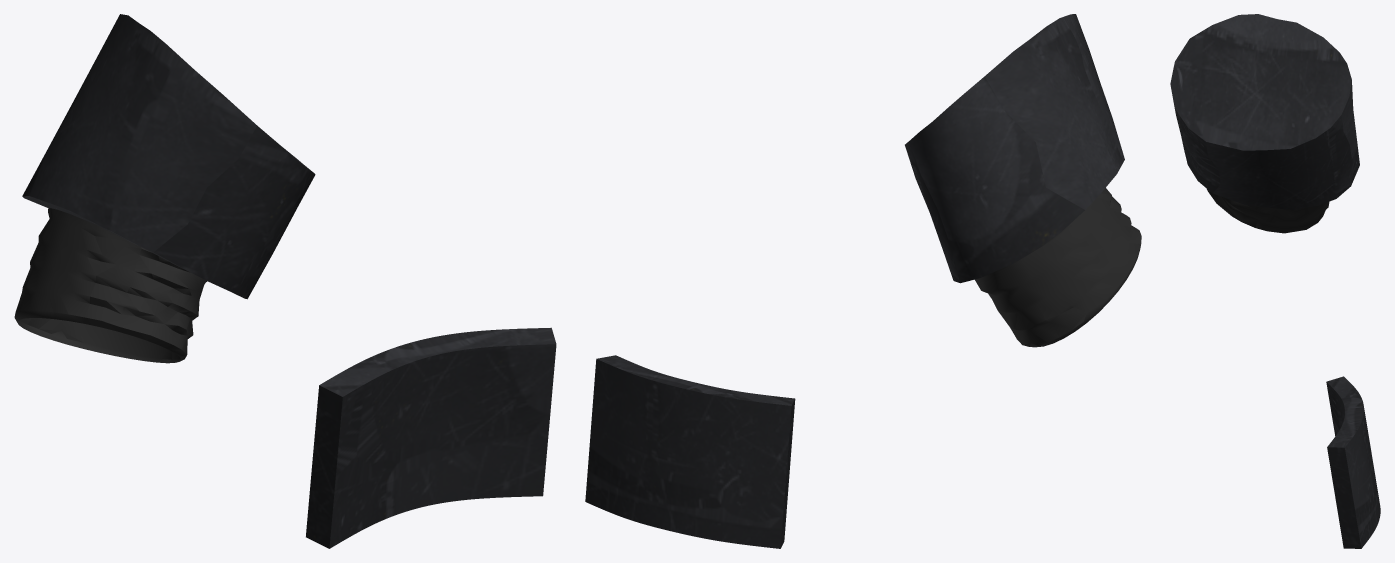
The model's file is sigismund_brazo_der.obj.
3 views of the same model, side by side, from view 1: azimuth 30°, elevation 25°; view 2: azimuth 150°, elevation 25°; view 3: azimuth 270°, elevation 25° (orthographic). The views are drawn at different scales.
Parts seen in each view (by area): view 1: brazo_der; view 2: brazo_der; view 3: brazo_der.
Boxes of the visible parts, x1,y1,x2,y2 form: brazo_der: (14, 14, 556, 548); brazo_der: (585, 14, 1141, 548); brazo_der: (1170, 14, 1380, 548).
Size of the model in its own units: 0.974 by 1.01 by 0.4888.
